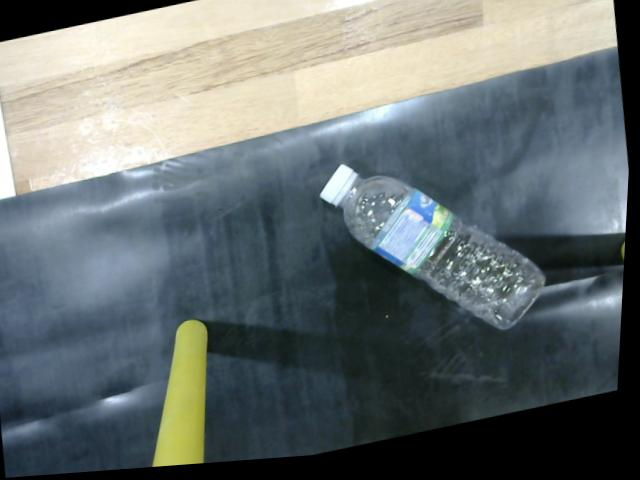bottle: (316, 157, 561, 353)
